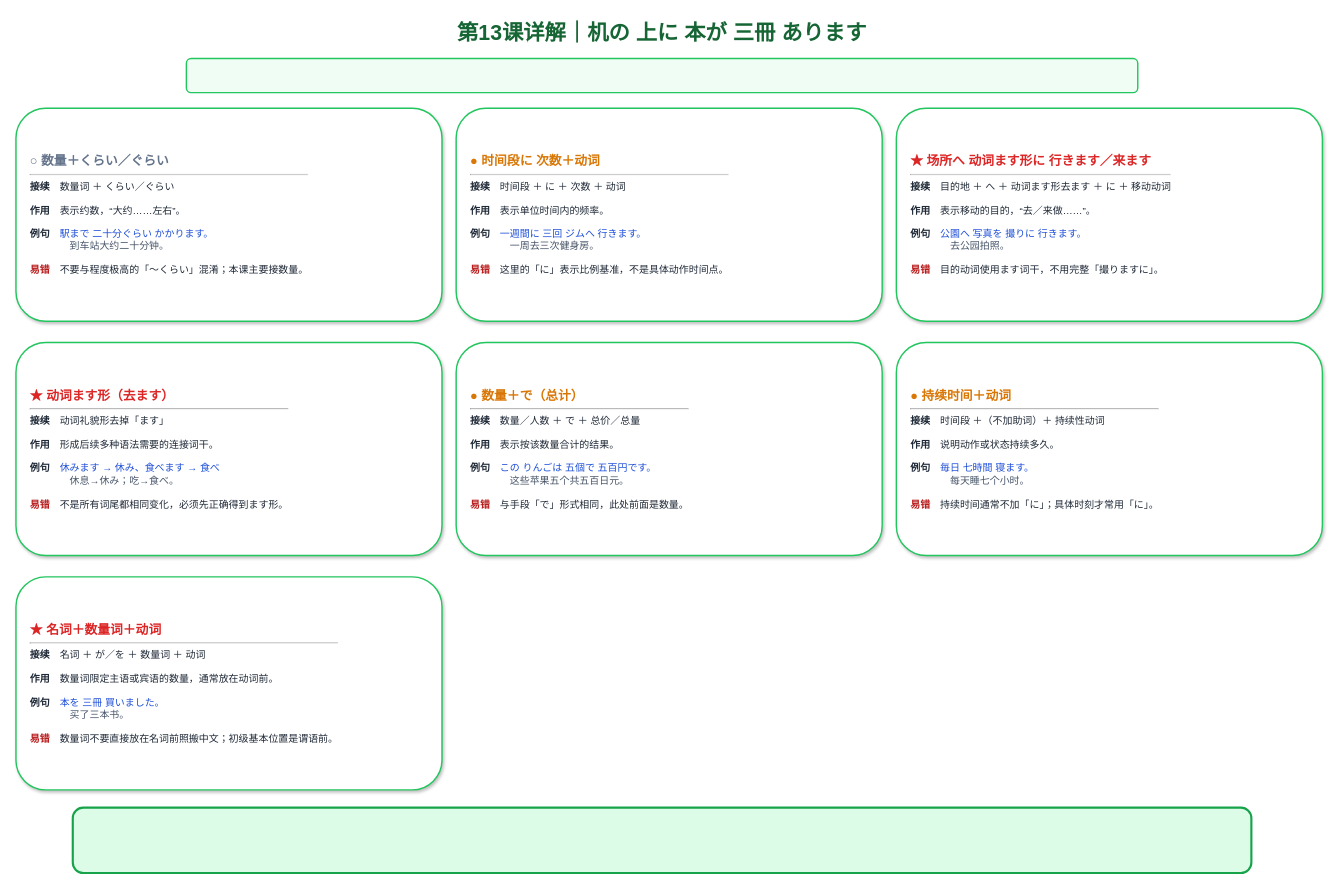
Image size: 1339x886. Some labels were removed from this diagram. The shapes that lost their labels are listed below. From the top down, each one's centre as x and y in pixels, then its label:
At pixel 661 75: "本课目标：正确放置数量词、持续时间、频率和移动目的表达。".
At pixel 661 840: "本课结构关系 数量词通常紧靠谓语前；频率用“时间段に次数”，持续时间一般不加助词。 最低掌握标准 能说明“多少个、多久、多久几次、去做什么”四类数量关系。".
